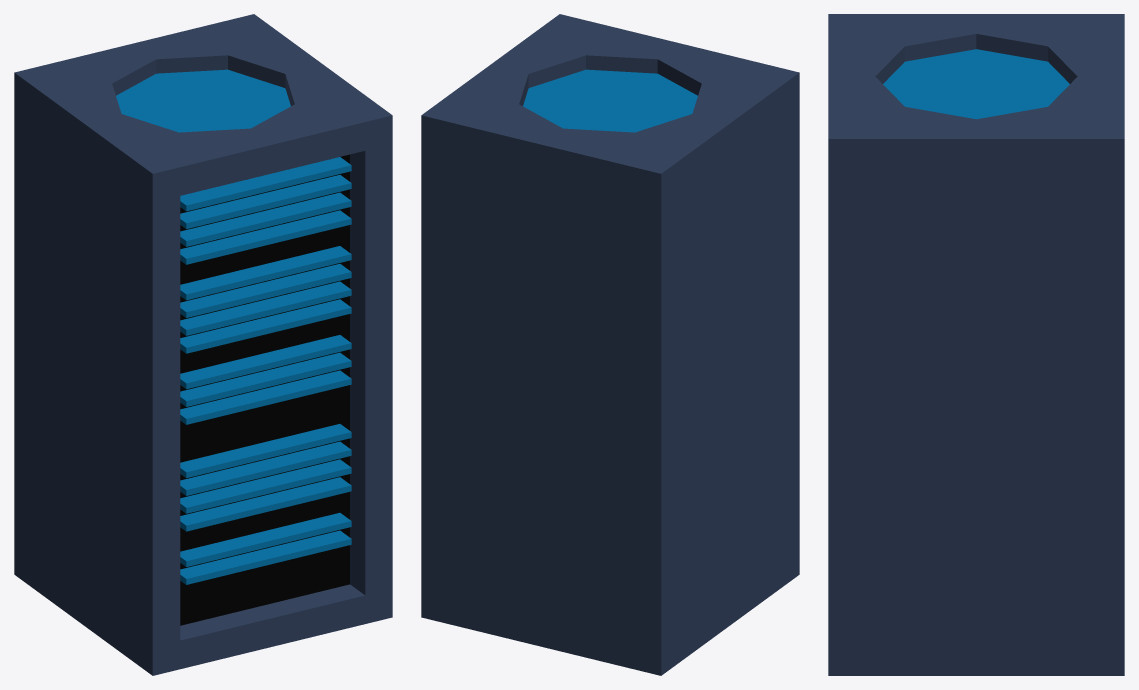
Rendered from Servidor_1_codequest.fbx.
The picture shows the model from 3 angles, left to right: view 1: azimuth 30°, elevation 25°; view 2: azimuth 150°, elevation 25°; view 3: azimuth 270°, elevation 25°; orthographic projection. The views are drawn at different scales.
Parts seen in each view (by area): view 1: Cubo; view 2: Cubo; view 3: Cubo.
Part boxes in pixels (x1=…): Cubo: x1=14, y1=14, x2=392, y2=675; Cubo: x1=421, y1=14, x2=799, y2=675; Cubo: x1=828, y1=14, x2=1124, y2=675.
Size of the model in its own units: 200 by 400 by 200.
